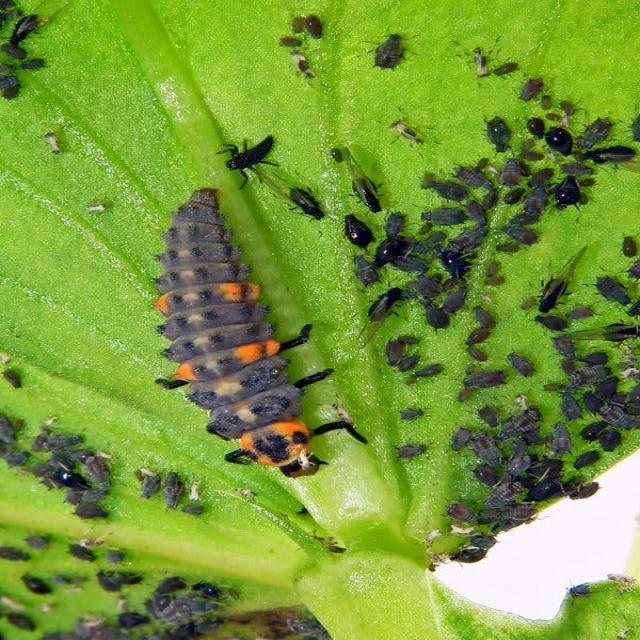Aphid-Grouped-: (352, 99, 639, 518)
Aphid-Grown-: (350, 20, 423, 82), (467, 105, 520, 156), (331, 208, 380, 252), (386, 434, 442, 464), (445, 422, 475, 454)
Aphid-Grown-have wings-: (253, 161, 330, 226), (336, 144, 395, 218), (346, 277, 404, 352), (532, 240, 589, 312)
